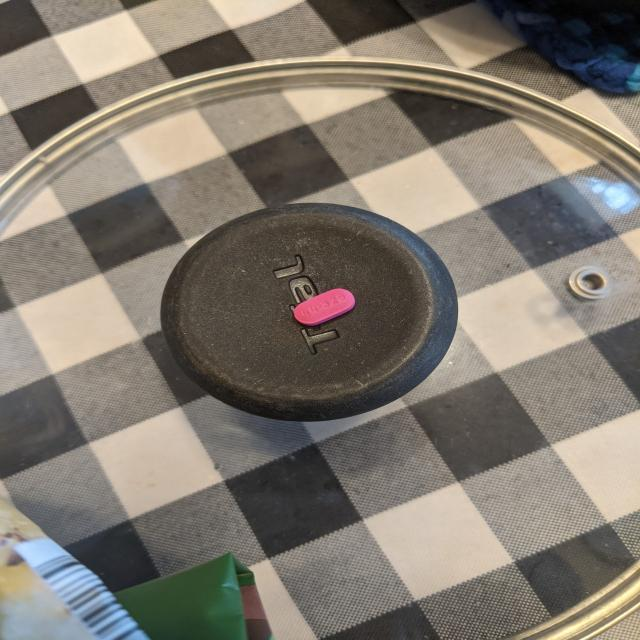non-organic waste: (293, 288, 357, 326)
